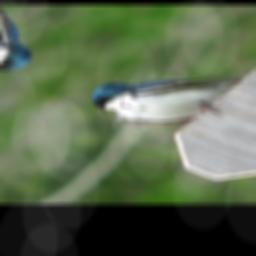Swallow: (74, 41, 256, 148)
